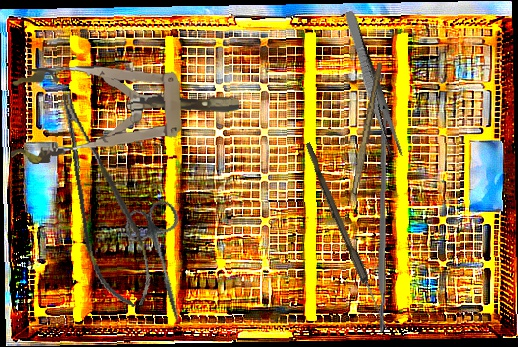Dressing Forceps: (339, 9, 405, 161)
Iris Scissors: (120, 197, 207, 332)
Micro Scissor: (52, 83, 160, 315)
Scalpel Handle: (351, 62, 384, 195), (376, 104, 389, 335)
Speculum: (6, 58, 242, 165)
Surgical Spoon: (300, 142, 393, 332)
